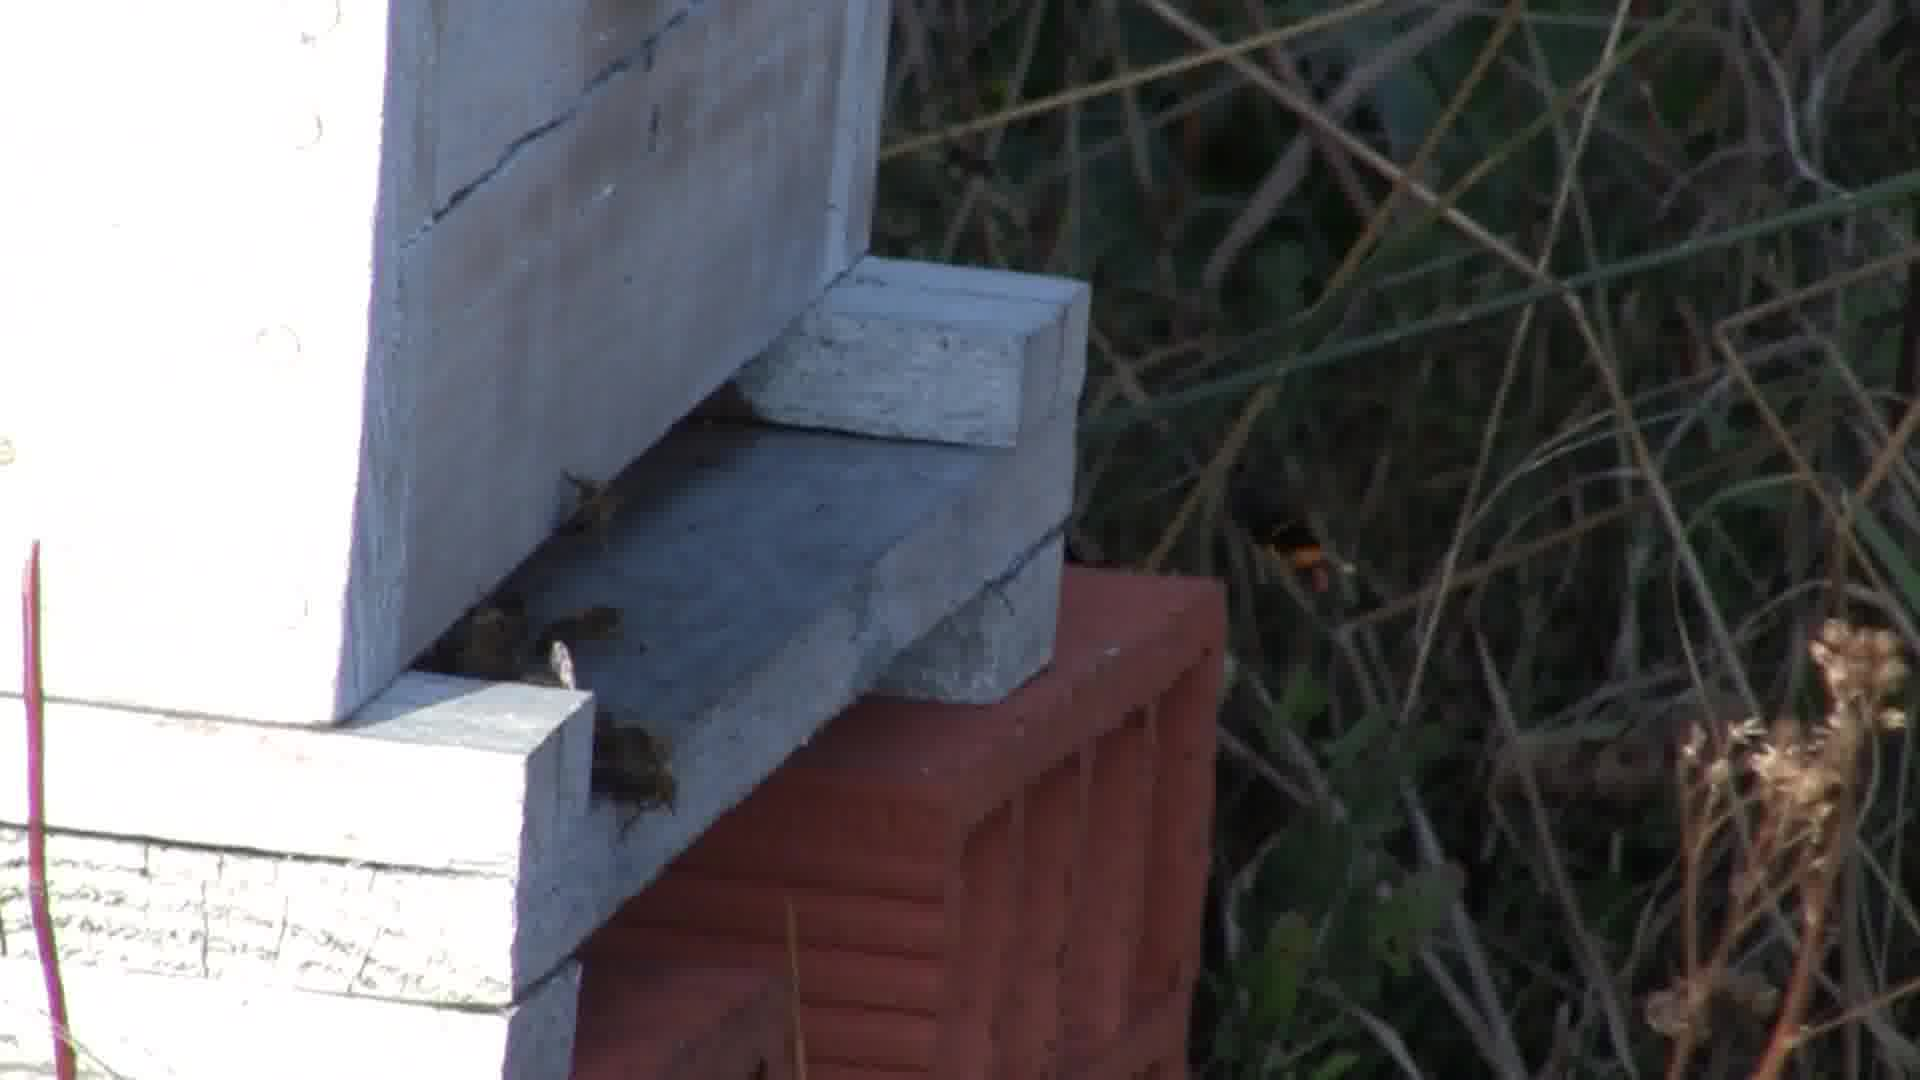bee: (574, 709, 720, 833), (531, 585, 644, 676)
hornet: (1255, 496, 1352, 608)
